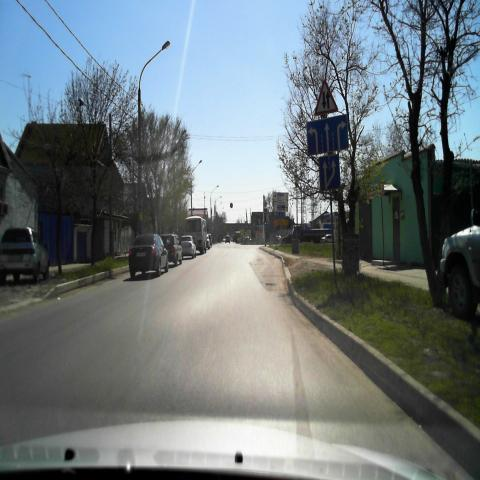1_21: (314, 77, 338, 114)
5_15_1: (306, 118, 352, 155)
